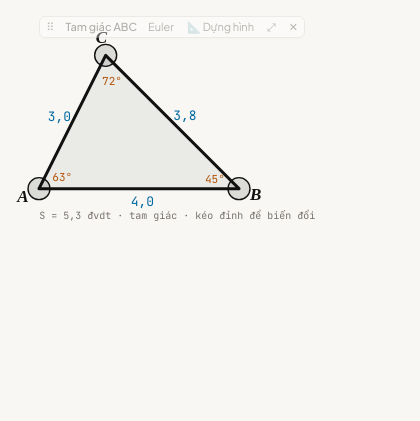
dựng hình trực tiếp trên hình phẳng › gói "Trọng tâm G": 3 trung tuyến + điểm G, AG : GM = 2
Click the button with test id "shape-build-toggle" at {"x": 221, "y": 27}, box [181,17,260,37]
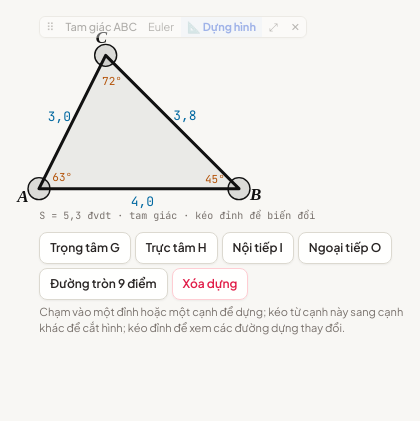
Click the button with test id "bundle-G" at {"x": 85, "y": 248}, box [39,232,131,264]
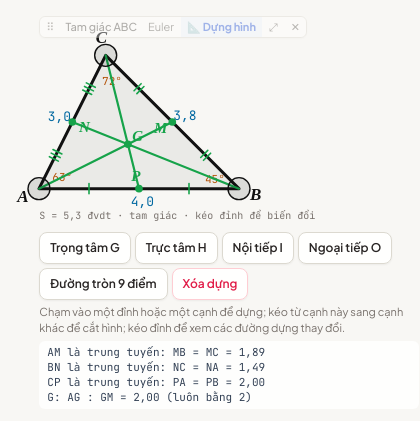
Check: the element with test id "construct-facts" shows "AG : GM = 2,00", box [47,390,252,404]
